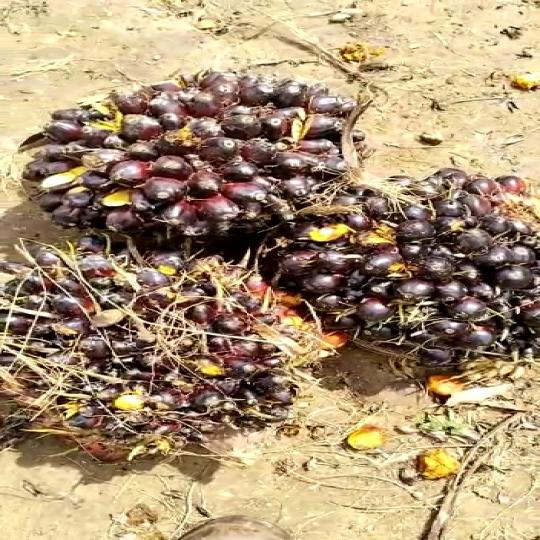mentah: (0, 243, 313, 467), (13, 68, 375, 246), (272, 157, 540, 373)
